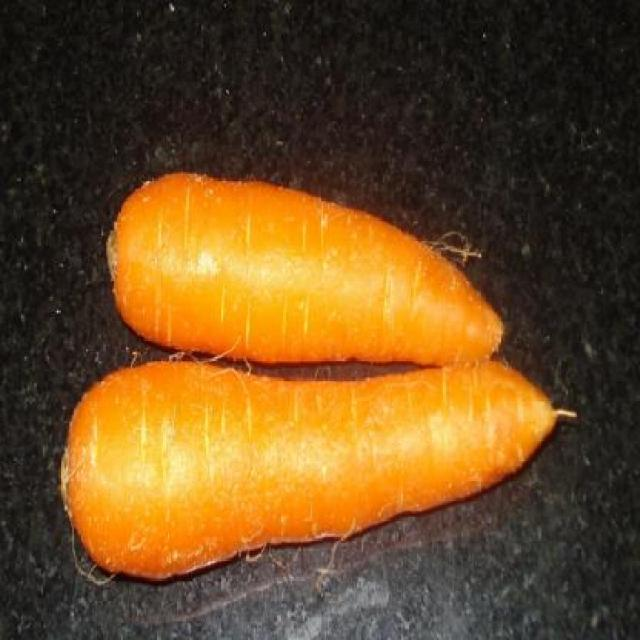carrot: (58, 362, 587, 577), (104, 176, 504, 370)
